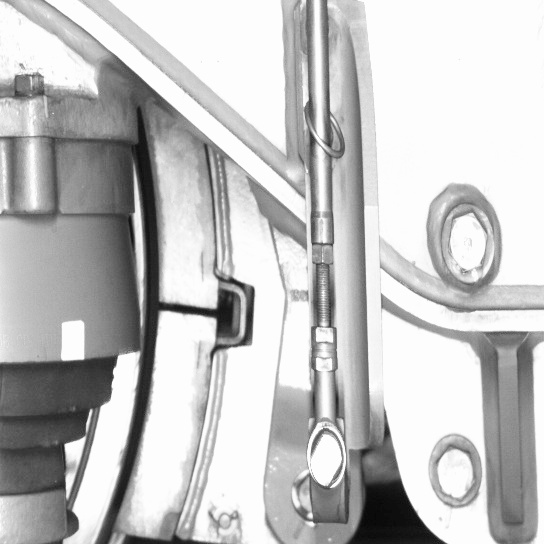KnifeSwitch: (91, 140, 241, 542)
